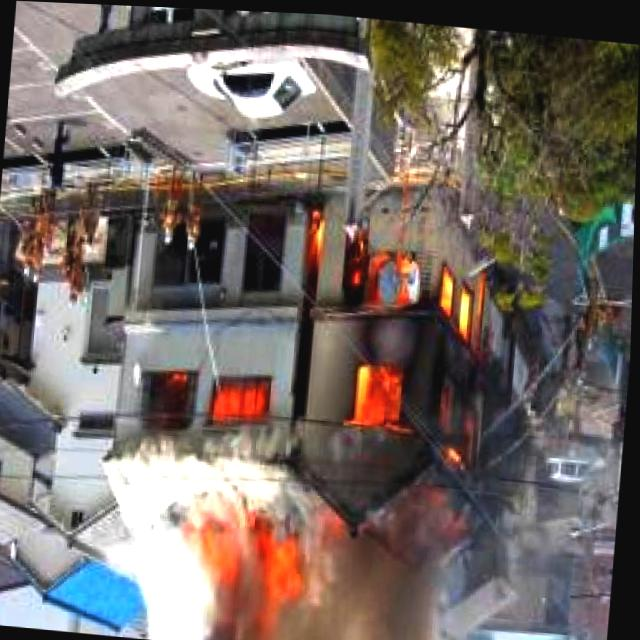Fire: (295, 201, 521, 464), (208, 369, 275, 429)
Smoke: (88, 437, 454, 640)
